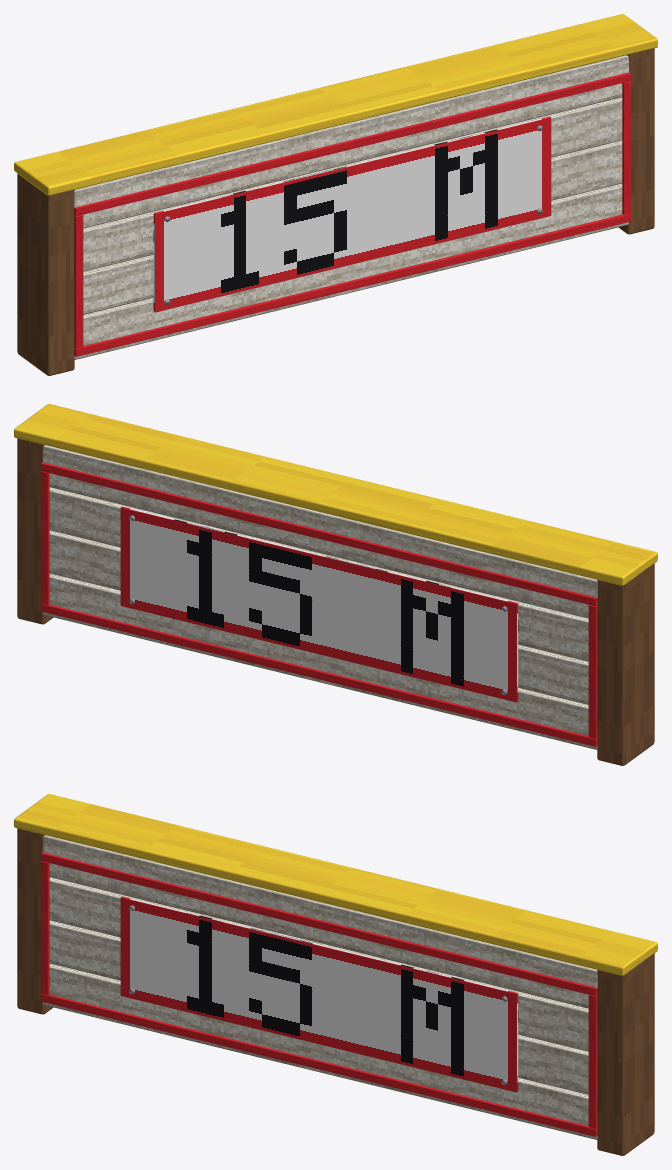
File: p_rangemark.glb
3 renders of one model, top to bottom at view 1: azimuth 30°, elevation 25°; view 2: azimuth 150°, elevation 25°; view 3: azimuth 330°, elevation 25°, orthographic.
Visible parts, largest first — view 1: p_rangemark_v15_lod0; view 2: p_rangemark_v15_lod0; view 3: p_rangemark_v15_lod0.
Boxes of the visible parts, box(x1,y1,x2,y2) form: p_rangemark_v15_lod0: box(14, 14, 657, 375); p_rangemark_v15_lod0: box(14, 404, 657, 765); p_rangemark_v15_lod0: box(14, 794, 657, 1155).
Size of what is drawn, in the model's own units: 4 by 1.2 by 0.408.
Materials: 1 (1 with a texture image).
